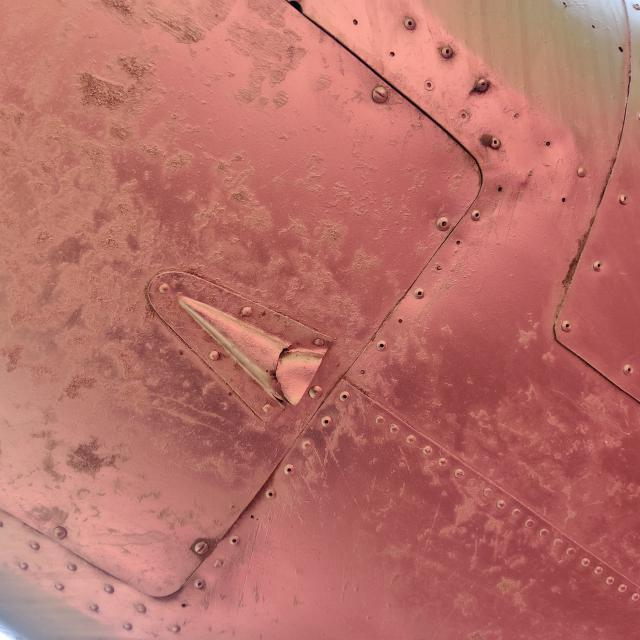Crack: (261, 341, 327, 406)
